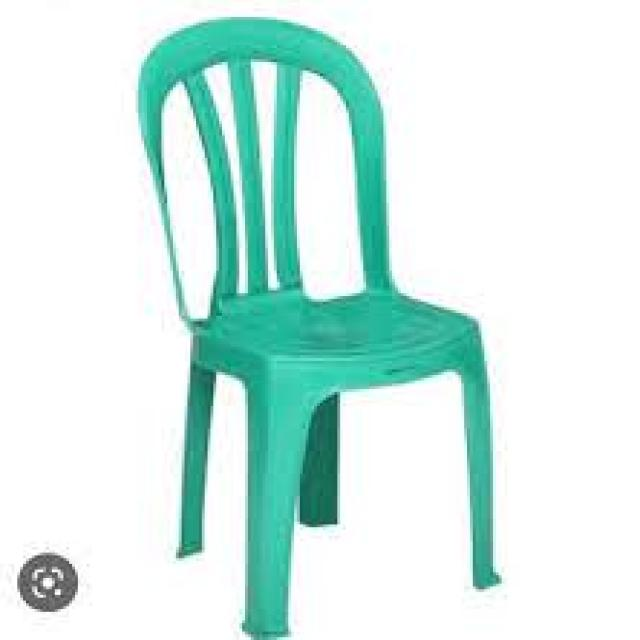chair: (94, 9, 596, 640)
